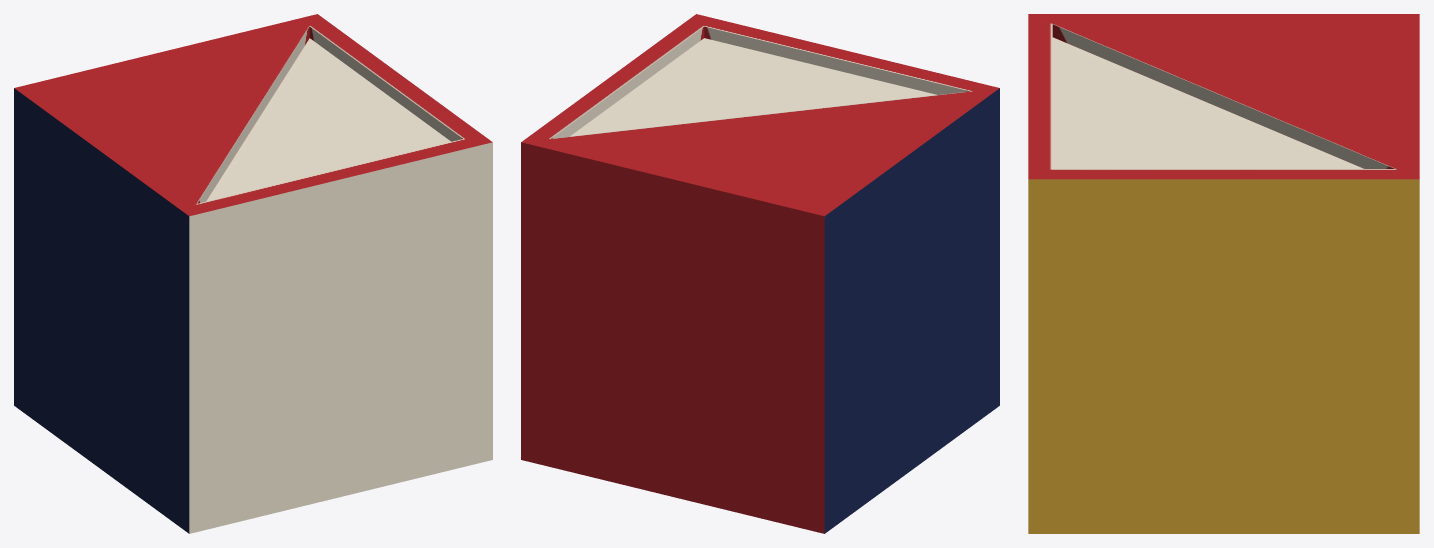
The model's file is color-cube-flat.glb.
The picture shows the model from 3 angles, left to right: view 1: azimuth 30°, elevation 25°; view 2: azimuth 150°, elevation 25°; view 3: azimuth 270°, elevation 25°; orthographic projection. The views are drawn at different scales.
Visible parts, largest first — view 1: ColorCubeFlat; view 2: ColorCubeFlat; view 3: ColorCubeFlat.
Part boxes in pixels (left/top/right/bottom): ColorCubeFlat: left=14, top=14, right=492, bottom=533; ColorCubeFlat: left=521, top=14, right=999, bottom=533; ColorCubeFlat: left=1028, top=14, right=1419, bottom=533.
Size of the model in its own units: 0.0275 by 0.0275 by 0.0275.
Materials: 1 (1 with a texture image).
